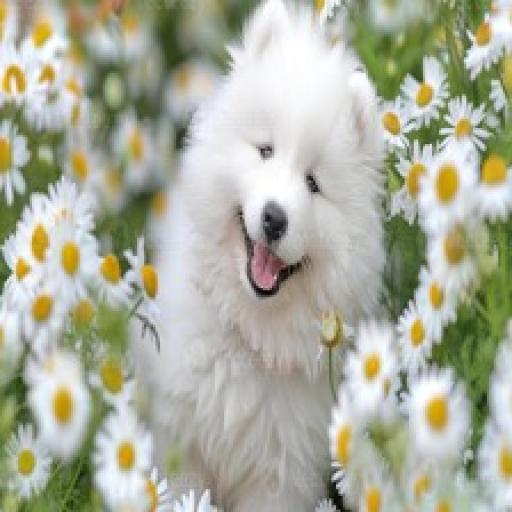dog: (94, 1, 391, 512)
